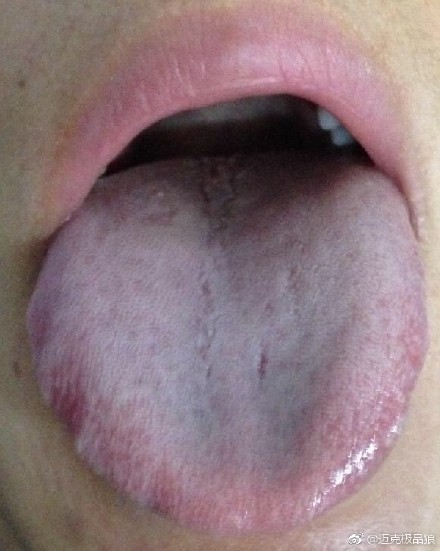baitaishe: (23, 153, 428, 539)
pangdashe: (23, 153, 428, 539)
